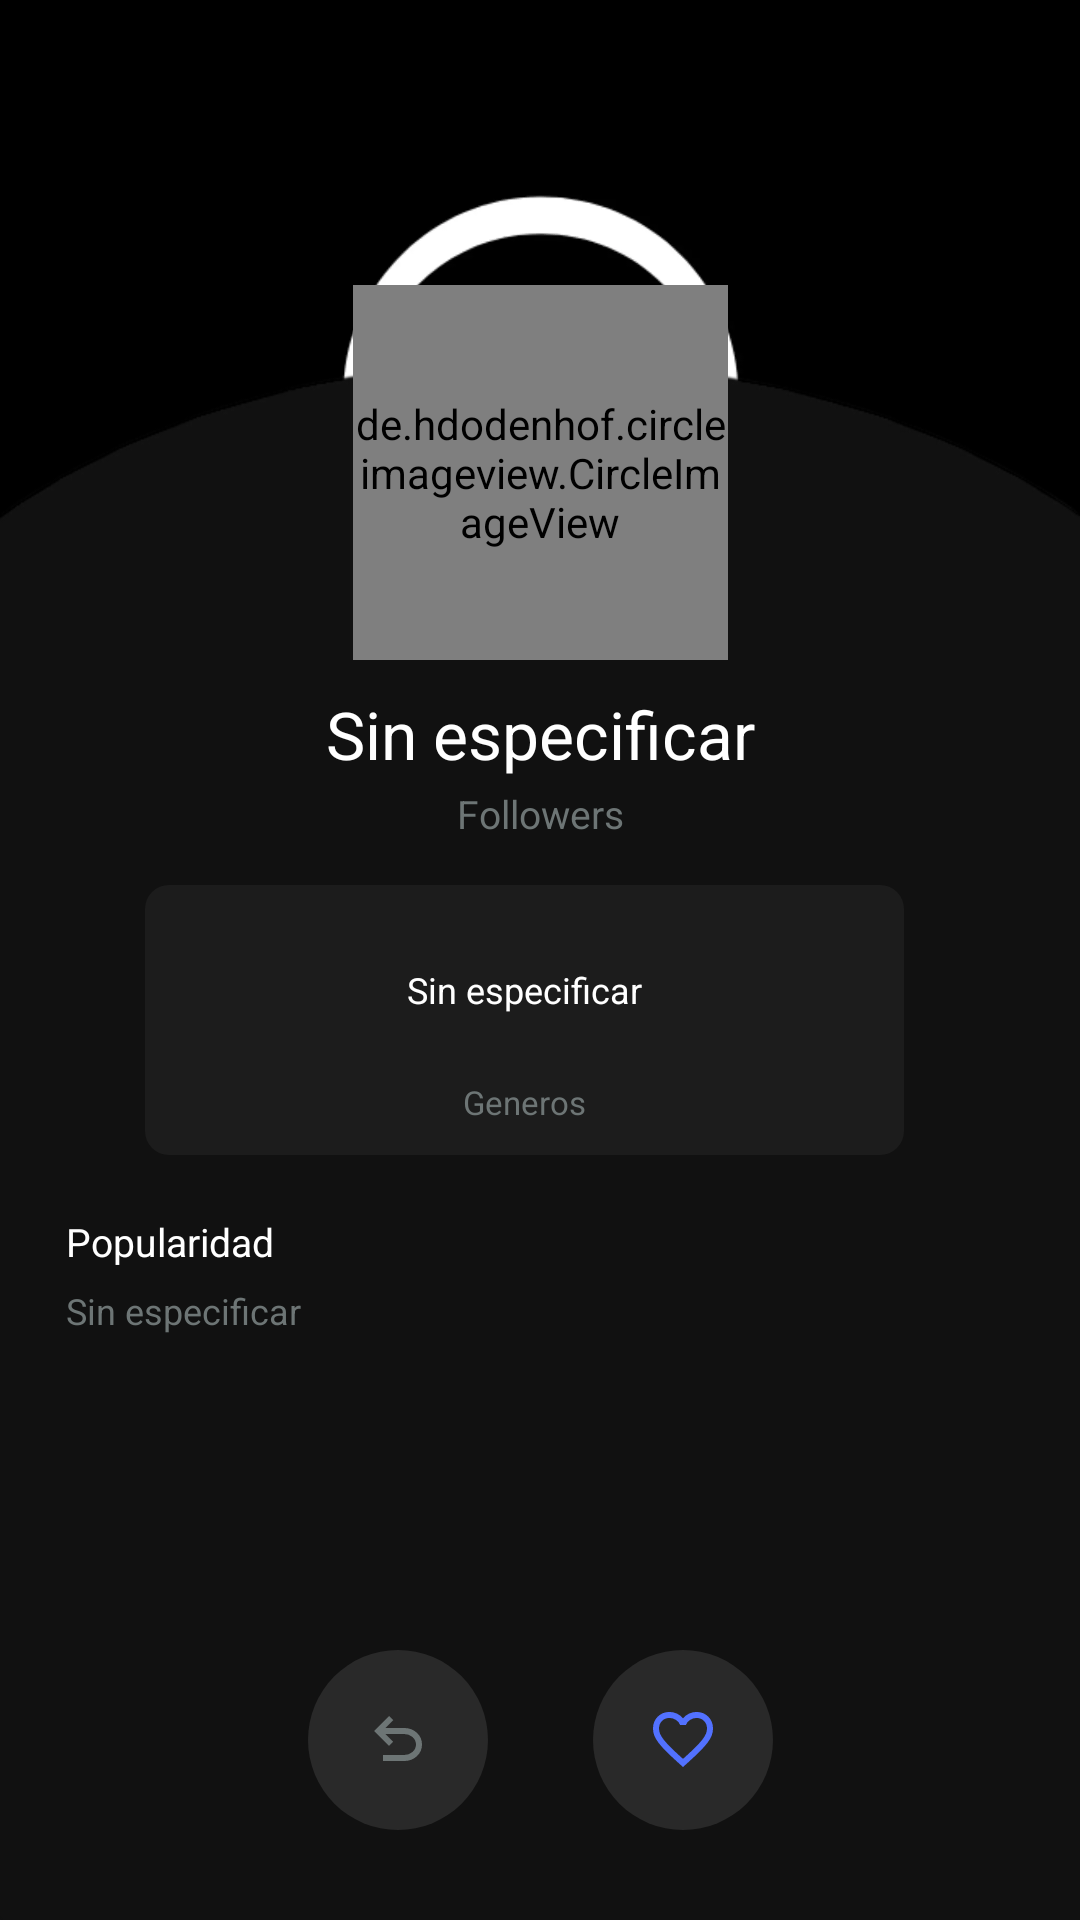

Icons on this 1080w x 1920h Android screen, each with the point to tap as (x=x, y=y):
back: (x=398, y=1740)
favorite: (x=683, y=1740)
